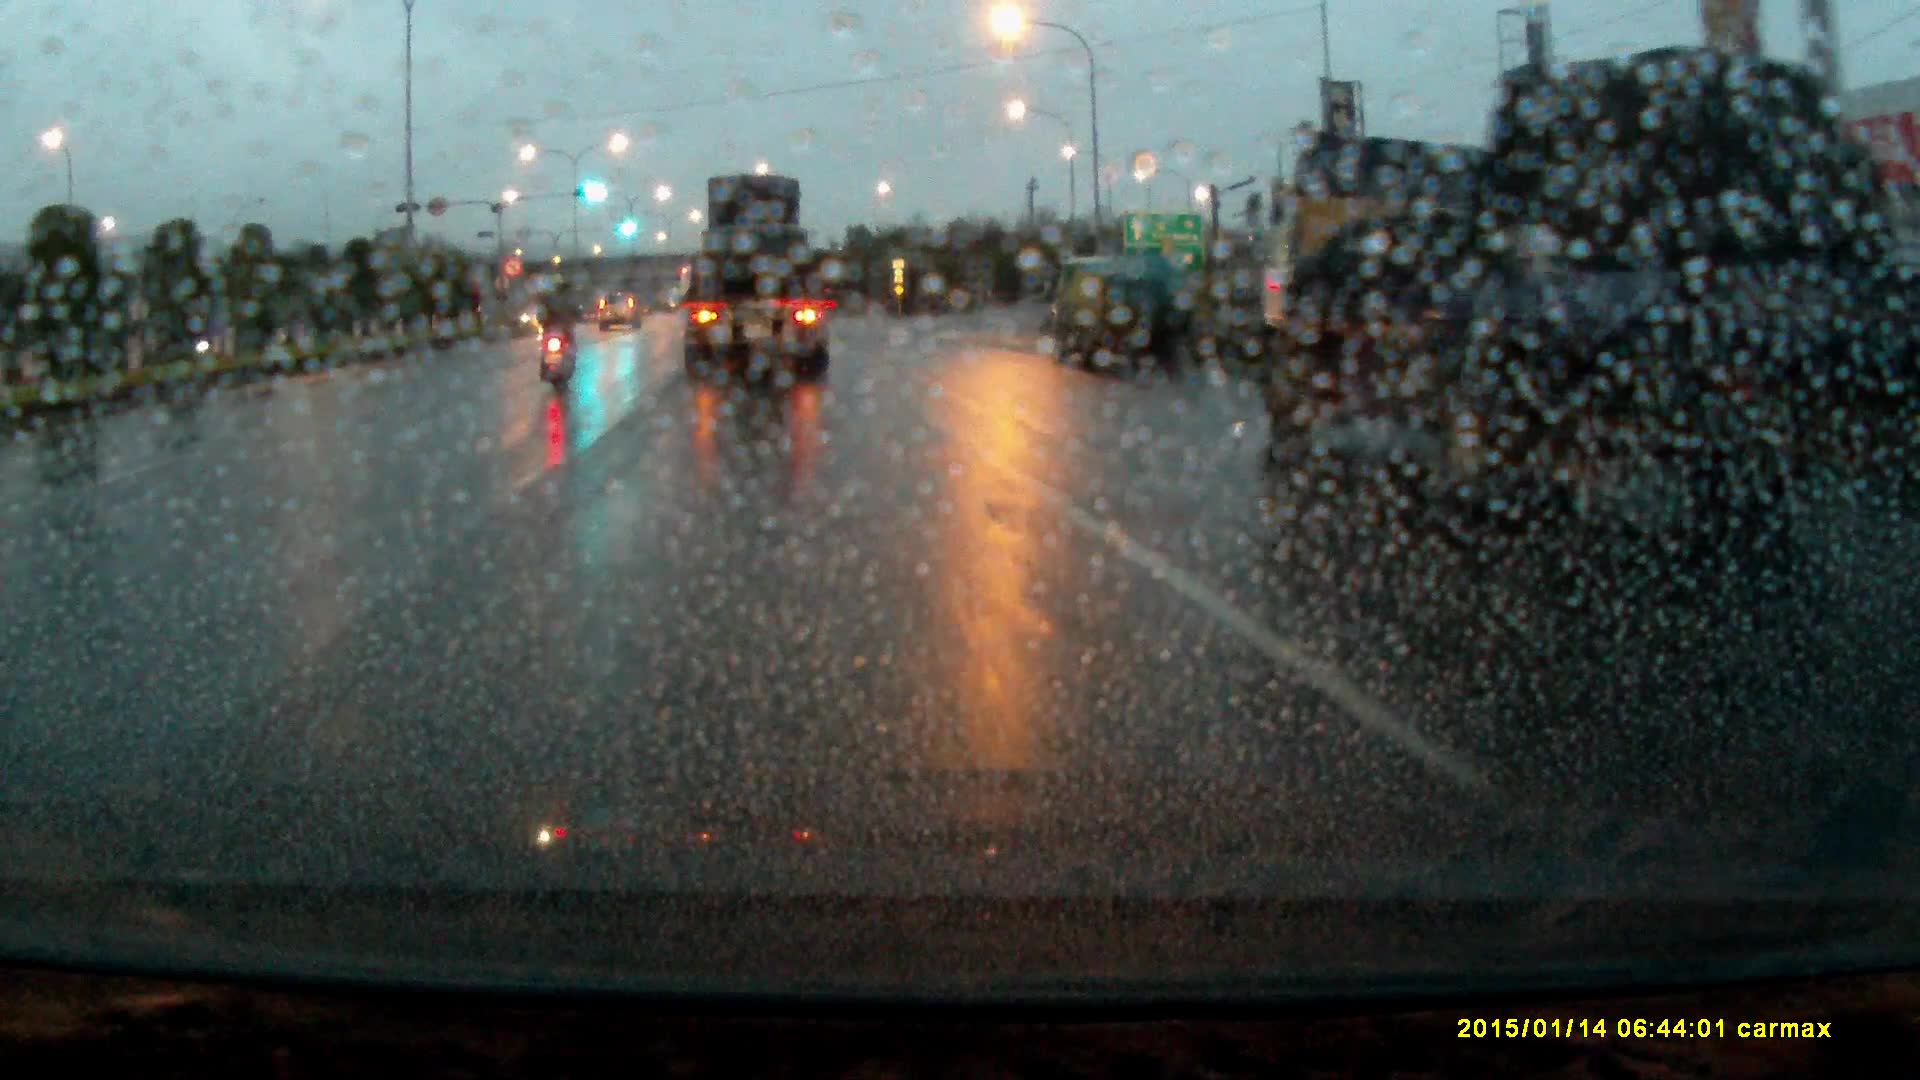rider: (535, 272, 586, 395)
vehicle: (1250, 80, 1896, 538), (675, 172, 834, 388), (1039, 258, 1201, 368), (600, 294, 645, 336)
